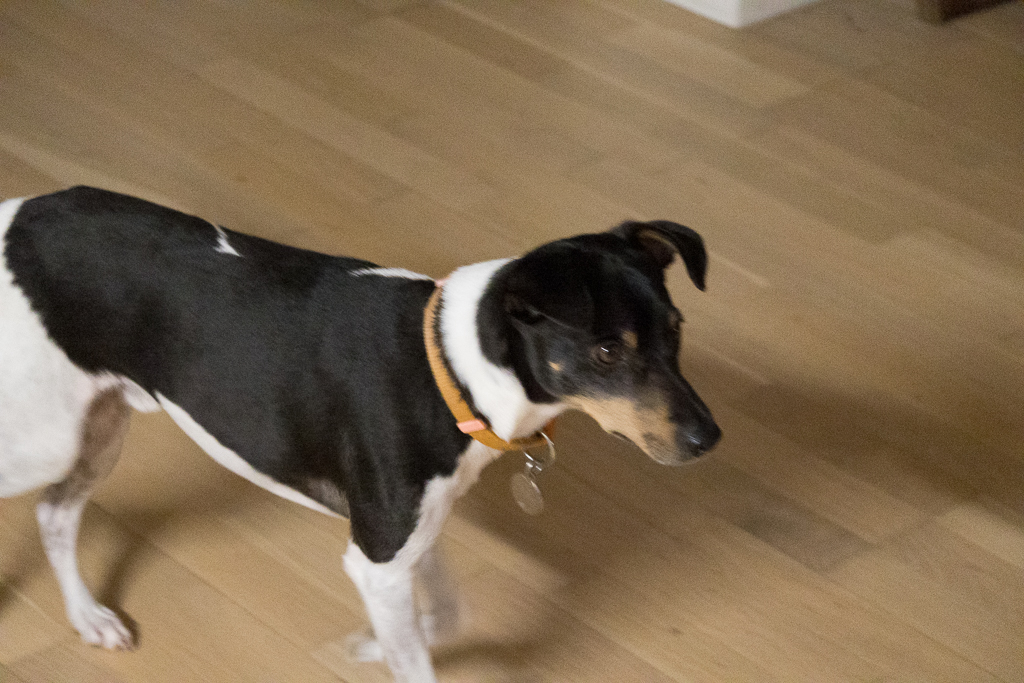Dog: (0, 179, 736, 683)
